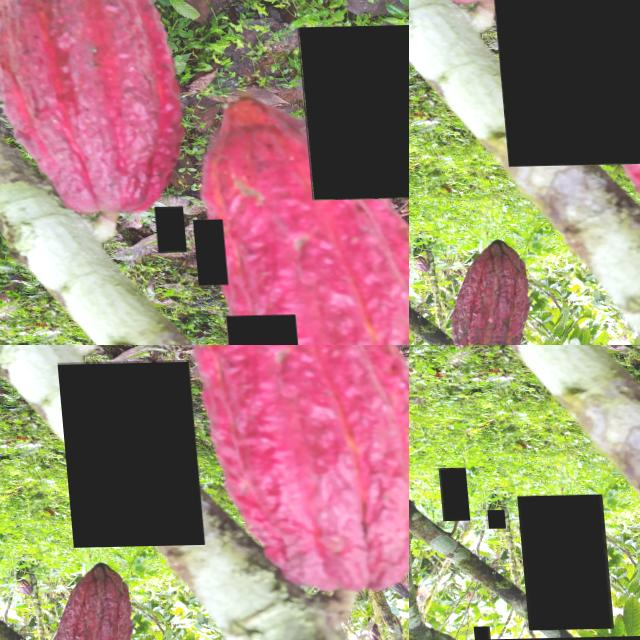Sana: (473, 0, 640, 167), (52, 362, 196, 548), (296, 27, 409, 202), (508, 496, 602, 631), (187, 221, 222, 287), (218, 316, 297, 345), (430, 468, 460, 521), (150, 208, 181, 254), (476, 511, 496, 530), (461, 626, 478, 640)
